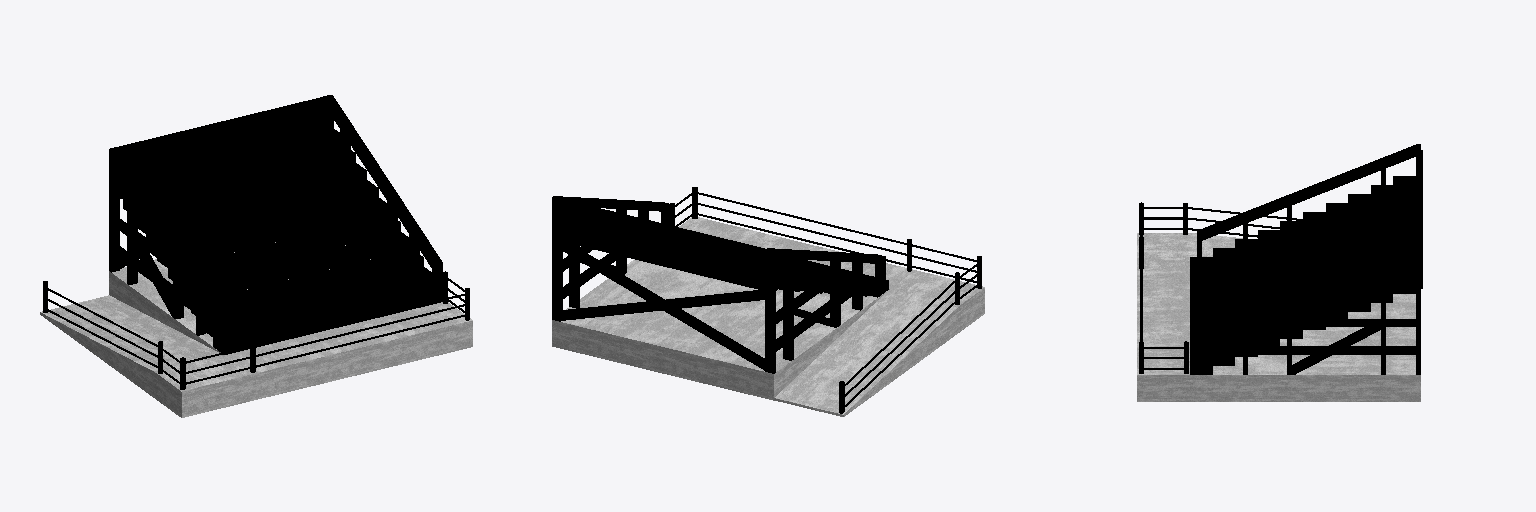
3 renders of one model, left to right at view 1: azimuth 30°, elevation 25°; view 2: azimuth 150°, elevation 25°; view 3: azimuth 270°, elevation 25°, orthographic.
Visible parts, largest first — view 1: pCube34; view 2: pCube34; view 3: pCube34.
Boxes of the visible parts, <box> form: pCube34: <box>40,95,472,417</box>; pCube34: <box>552,187,984,416</box>; pCube34: <box>1137,144,1422,401</box>.
Bounding box in the file's own units: 31.2 × 15.22 × 26.45.
Materials: 3 (1 with a texture image).